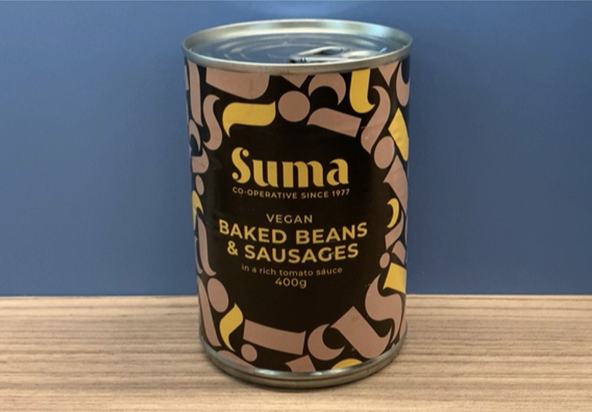Baked beans_400-499g: (211, 113, 395, 354)
